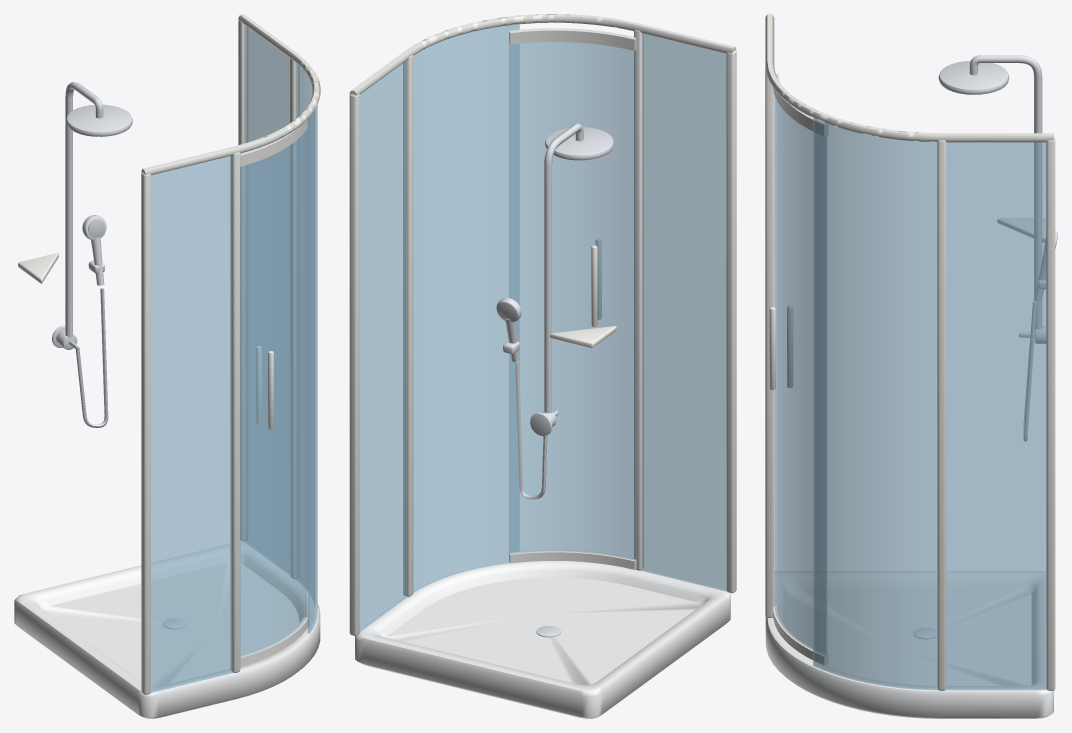
File: box_chuveiro_canto_curvo_branco.glb
3 views of the same model, side by side, from view 1: azimuth 30°, elevation 25°; view 2: azimuth 150°, elevation 25°; view 3: azimuth 270°, elevation 25° (orthographic). The views are drawn at different scales.
Visible parts, largest first — view 1: box_chuveiro_canto_curvo_branco, porta_box; view 2: box_chuveiro_canto_curvo_branco, porta_box; view 3: box_chuveiro_canto_curvo_branco, porta_box.
Boxes of the visible parts, x1=… form: box_chuveiro_canto_curvo_branco: x1=14, y1=14, x2=320, y2=718; porta_box: x1=240, y1=118, x2=308, y2=666; box_chuveiro_canto_curvo_branco: x1=349, y1=14, x2=736, y2=718; porta_box: x1=509, y1=28, x2=636, y2=569; box_chuveiro_canto_curvo_branco: x1=765, y1=14, x2=1057, y2=718; porta_box: x1=769, y1=73, x2=828, y2=664.
Size of the model in its own units: 0.905 by 2.01 by 0.9123.
2 materials, 1 textured.
